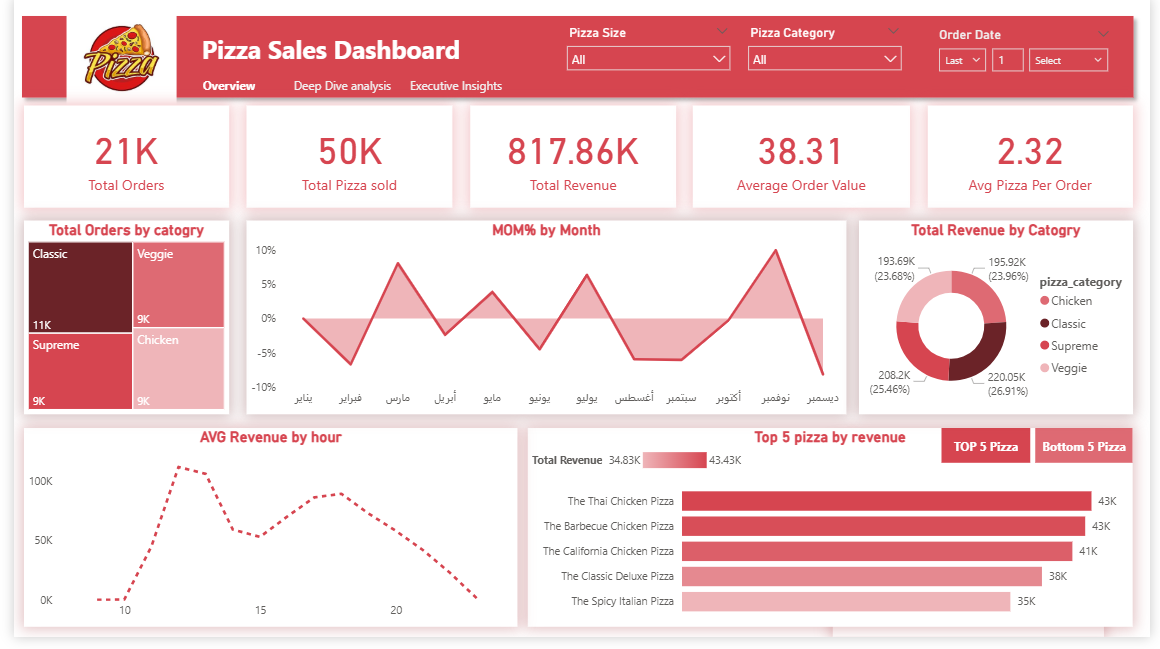

This screenshot's page, from the dashboard's own definition file:
{"tool":"powerbi","page":{"name":"Overview","canvas":[1280,720],"ordinal":0},"visuals":[{"type":"shape","box":[0,11.3,1270.4,109.9],"z":0},{"type":"image","box":[0,0,242.3,133.8],"z":1000},{"type":"shape","box":[183.1,0,347.9,114.1],"z":2000},{"type":"card","fields":{"Values":["_measures.Total Orders"]},"box":[11.3,121.1,231,115.5],"z":3000},{"type":"card","fields":{"Values":["_measures.Total Pizza sold"]},"box":[261.6,121.1,232.4,115.5],"z":4000},{"type":"card","fields":{"Values":["_measures.Total Revenue"]},"box":[513.4,121.1,232.4,115.5],"z":5000},{"type":"card","fields":{"Values":["_measures.Average Order Value"]},"box":[765.1,121.1,245.1,115.5],"z":6000},{"type":"card","fields":{"Values":["_measures.Avg Pizza Per Order"]},"box":[1029.6,121.1,231,115.5],"z":7000},{"type":"donutChart","title":"Revenue by category","fields":{"Y":["_measures.Total Revenue"],"Category":["pizza_sales.pizza_category"]},"box":[922.5,501.4,305.6,218.3],"z":8000},{"type":"clusteredBarChart","title":"Top 5 pizza by revenue","fields":{"Category":["pizza_sales.pizza_name"],"Y":["_measures.Total Revenue"]},"box":[578.9,484.5,681.7,223.9],"z":10000},{"type":"lineChart","title":"AVG Revenue by hour","fields":{"Y":["_measures.AVG Revenue Per Hour"],"Category":["pizza_sales.hour of order"]},"box":[11.3,484.5,556.3,223.9],"z":11000},{"type":"slicer","fields":{"Values":["pizza_sales.pizza_category"]},"box":[816.9,25.4,193,64.8],"z":12000},{"type":"slicer","fields":{"Values":["pizza_sales.pizza_size"]},"box":[612.7,25.4,204.2,64.8],"z":13000},{"type":"actionButton","box":[1150.7,484.5,109.9,39.4],"z":14000},{"type":"actionButton","box":[1045.1,484.5,100,39.4],"z":15000},{"type":"areaChart","title":"MOM% by Month","fields":{"Category":["pizza_sales.MONTH NAME"],"Y":["_measures.MOM%"]},"box":[262,250.7,676.1,218.3],"z":16000},{"type":"treemap","title":"Total Orders by catogry","fields":{"Group":["pizza_sales.pizza_category"],"Values":["_measures.Total Orders"]},"box":[11.3,250.7,231,218.3],"z":17000},{"type":"donutChart","title":"Total Revenue by Catogry","fields":{"Category":["pizza_sales.pizza_category"],"Y":["_measures.Total Revenue"]},"box":[952.1,250.7,308.5,218.3],"z":18000},{"type":"slicer","fields":{"Values":["pizza_sales.order_date"]},"box":[1029.6,28.2,216.9,59.2],"z":19000},{"type":"pageNavigator","box":[183.1,87.3,374.6,22.5],"z":20000}]}

Visuals, with their boxes in screenshot pixels (x1, y1, x2, y2), scaled from the page's 1280x720 canvas onto the 1160x649 screenshot:
shape: [x1=0, y1=10, x2=1151, y2=109]
image: [x1=0, y1=0, x2=220, y2=121]
shape: [x1=166, y1=0, x2=481, y2=103]
card - _measures.Total Orders: [x1=10, y1=109, x2=220, y2=213]
card - _measures.Total Pizza sold: [x1=237, y1=109, x2=448, y2=213]
card - _measures.Total Revenue: [x1=465, y1=109, x2=676, y2=213]
card - _measures.Average Order Value: [x1=693, y1=109, x2=915, y2=213]
card - _measures.Avg Pizza Per Order: [x1=933, y1=109, x2=1142, y2=213]
"Revenue by category" donutChart: [x1=836, y1=452, x2=1113, y2=648]
"Top 5 pizza by revenue" clusteredBarChart: [x1=525, y1=437, x2=1142, y2=639]
"AVG Revenue by hour" lineChart: [x1=10, y1=437, x2=514, y2=639]
slicer - pizza_sales.pizza_category: [x1=740, y1=23, x2=915, y2=81]
slicer - pizza_sales.pizza_size: [x1=555, y1=23, x2=740, y2=81]
actionButton: [x1=1043, y1=437, x2=1142, y2=472]
actionButton: [x1=947, y1=437, x2=1038, y2=472]
"MOM% by Month" areaChart: [x1=237, y1=226, x2=850, y2=423]
"Total Orders by catogry" treemap: [x1=10, y1=226, x2=220, y2=423]
"Total Revenue by Catogry" donutChart: [x1=863, y1=226, x2=1142, y2=423]
slicer - pizza_sales.order_date: [x1=933, y1=25, x2=1130, y2=79]
pageNavigator: [x1=166, y1=79, x2=505, y2=99]
